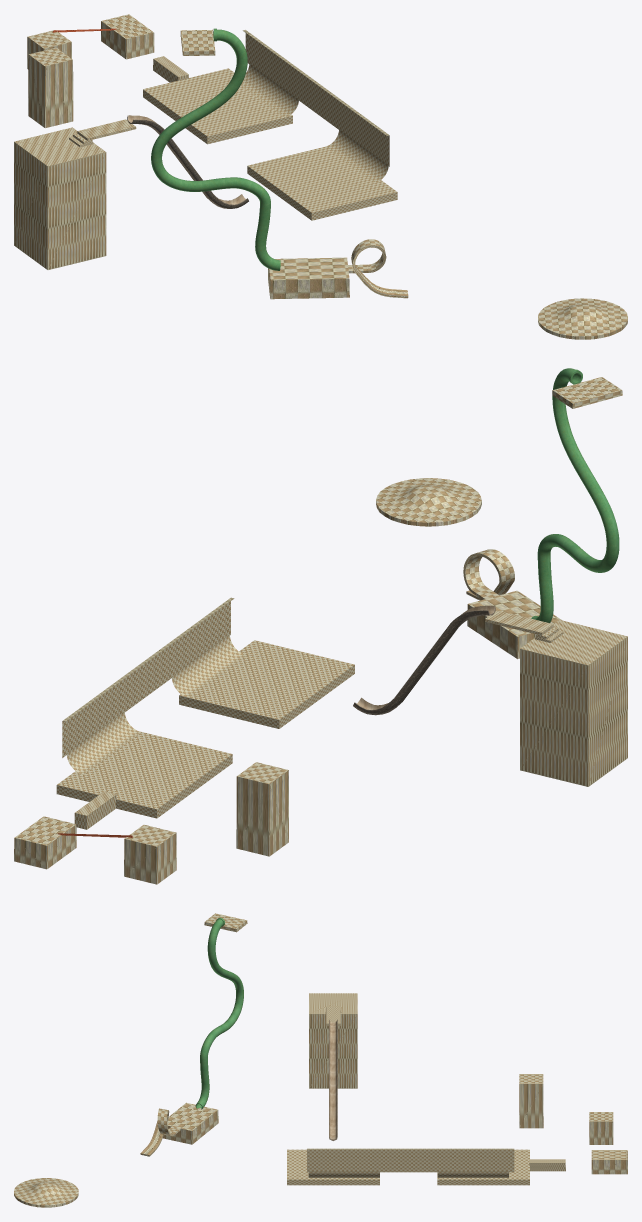
The model's file is Tutorial9.obj.
3 renders of one model, top to bottom at view 1: azimuth 30°, elevation 25°; view 2: azimuth 150°, elevation 25°; view 3: azimuth 270°, elevation 25°, orthographic. The views are drawn at different scales.
Bounding box in the file's own units: 6229 × 3997 × 11754.
Materials: 5 (5 with a texture image).
